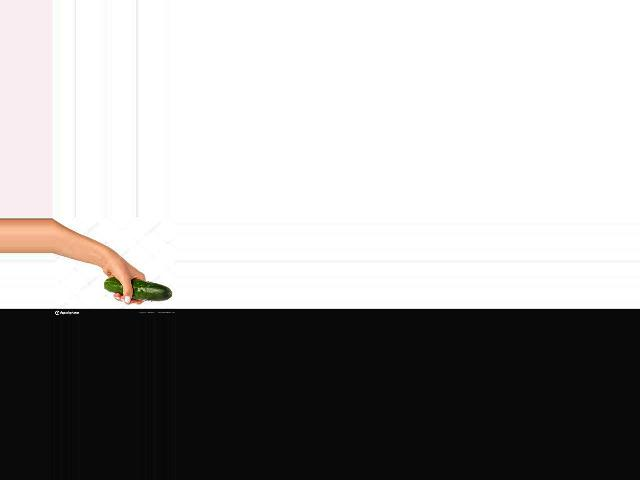cucumber: (105, 277, 172, 301)
